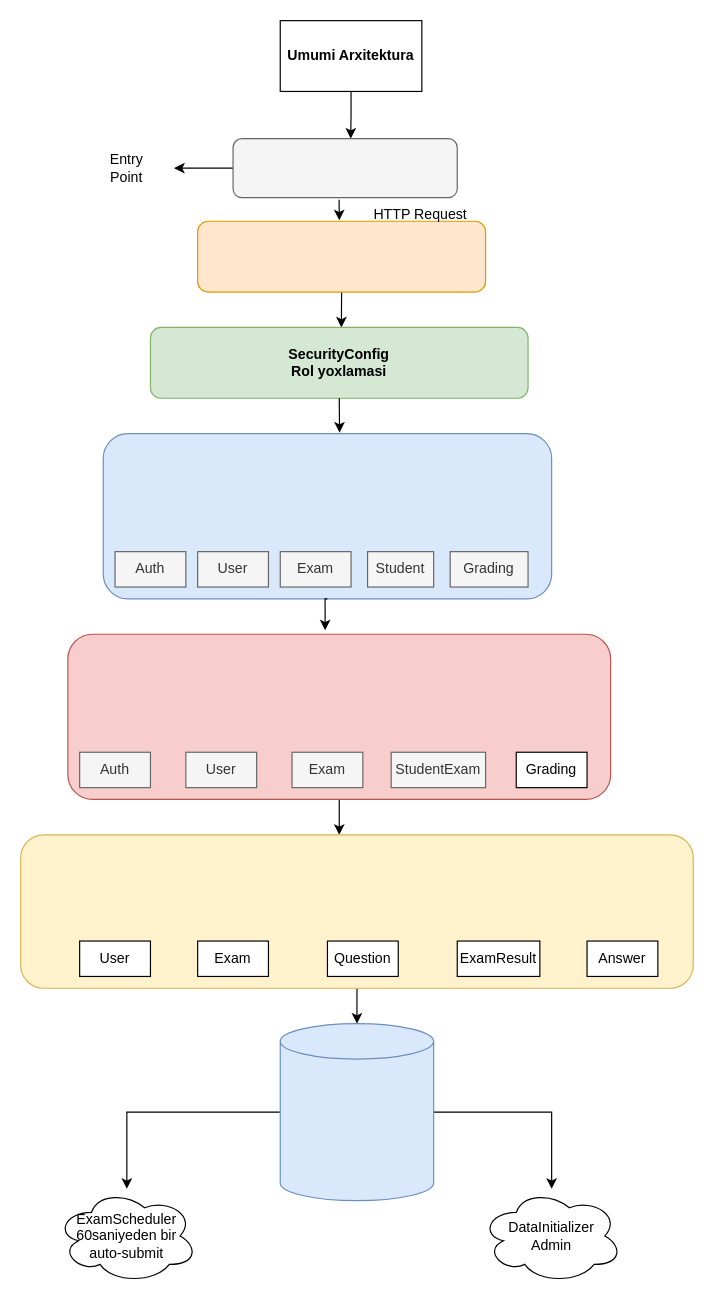
Image size: 714x1304. Some labels were removed from this diagram. The shapes that lost their labels are listed below. From the top down, each one's box as (x1, y1, x2, y2) in pixels, then its label:
(232, 137, 457, 198): Client(Brauzer/Postman)
(196, 220, 486, 292): JwtAuthFilter
(102, 432, 552, 599): Controller
(67, 633, 611, 799): Service
(19, 834, 693, 988): Repository
(279, 1022, 434, 1201): MySQL Database users-classes-exams-answers
